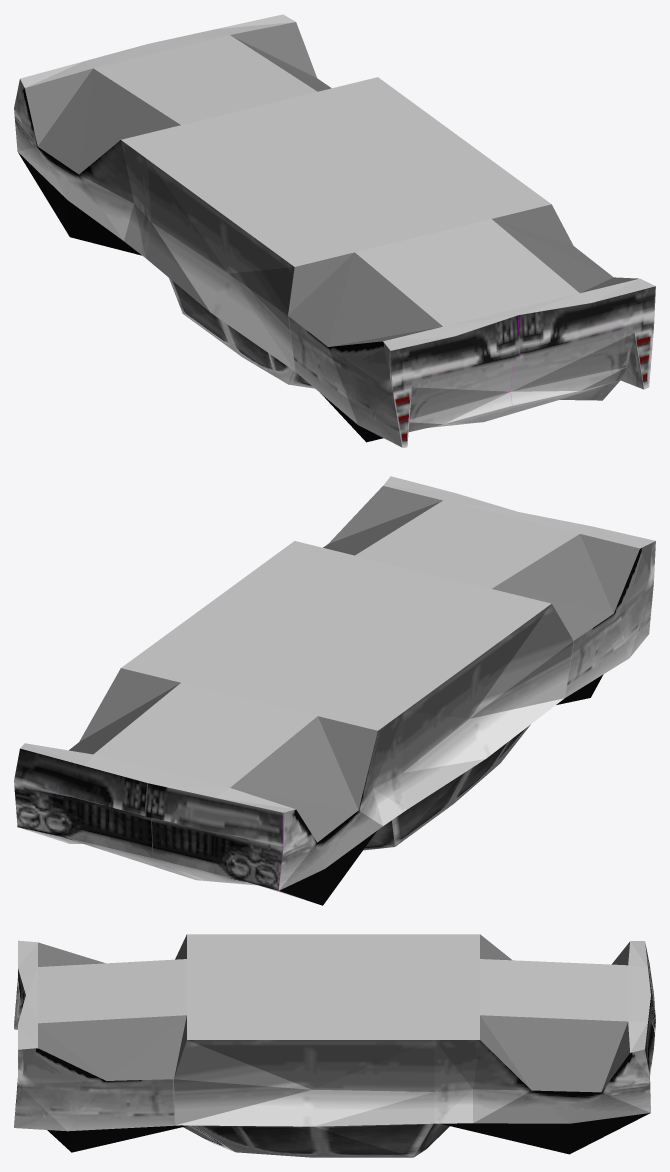
File: HAVANA_model0_damaged.obj
3 renders of one model, top to bottom at view 1: azimuth 30°, elevation 25°; view 2: azimuth 150°, elevation 25°; view 3: azimuth 270°, elevation 25°, orthographic. The views are drawn at different scales.
Visible parts, largest first — view 1: HAVANA_model0_damaged_set21_id5_ft, HAVANA_model0_damaged_flat, HAVANA_model0_damaged_set36_id23, HAVANA_model0_damaged_set36_id17, HAVANA_model0_damaged_set36_id19, HAVANA_model0_damaged_set36_id28, HAVANA_model0_damaged_set36_id24, HAVANA_model0_damaged_set36_id29, HAVANA_model0_damaged_set36_id25; view 2: HAVANA_model0_damaged_set21_id5_ft, HAVANA_model0_damaged_flat, HAVANA_model0_damaged_set36_id23, HAVANA_model0_damaged_set36_id18, HAVANA_model0_damaged_set36_id20, HAVANA_model0_damaged_set36_id28, HAVANA_model0_damaged_set36_id24, HAVANA_model0_damaged_set36_id29, HAVANA_model0_damaged_set36_id26; view 3: HAVANA_model0_damaged_set21_id5_ft, HAVANA_model0_damaged_set36_id23, HAVANA_model0_damaged_flat, HAVANA_model0_damaged_set36_id28, HAVANA_model0_damaged_set36_id24, HAVANA_model0_damaged_set36_id29, HAVANA_model0_damaged_set36_id22, HAVANA_model0_damaged_set36_id18, HAVANA_model0_damaged_set36_id19.
Part boxes in pixels (x1,y1,x2,y2): HAVANA_model0_damaged_set21_id5_ft: [20, 14, 655, 350]; HAVANA_model0_damaged_flat: [25, 22, 638, 346]; HAVANA_model0_damaged_set36_id23: [146, 160, 295, 371]; HAVANA_model0_damaged_set36_id17: [511, 286, 655, 405]; HAVANA_model0_damaged_set36_id19: [390, 315, 520, 447]; HAVANA_model0_damaged_set36_id28: [14, 79, 150, 257]; HAVANA_model0_damaged_set36_id24: [288, 316, 402, 447]; HAVANA_model0_damaged_set36_id29: [169, 278, 293, 384]; HAVANA_model0_damaged_set36_id25: [428, 380, 620, 427]; HAVANA_model0_damaged_set21_id5_ft: [20, 476, 655, 812]; HAVANA_model0_damaged_flat: [69, 486, 639, 842]; HAVANA_model0_damaged_set36_id23: [402, 603, 573, 809]; HAVANA_model0_damaged_set36_id18: [14, 748, 153, 857]; HAVANA_model0_damaged_set36_id20: [145, 783, 283, 890]; HAVANA_model0_damaged_set36_id28: [278, 711, 406, 905]; HAVANA_model0_damaged_set36_id24: [556, 541, 655, 704]; HAVANA_model0_damaged_set36_id29: [392, 724, 530, 846]; HAVANA_model0_damaged_set36_id26: [18, 827, 314, 903]; HAVANA_model0_damaged_set21_id5_ft: [18, 934, 650, 1052]; HAVANA_model0_damaged_set36_id23: [174, 1040, 434, 1126]; HAVANA_model0_damaged_flat: [38, 934, 629, 1092]; HAVANA_model0_damaged_set36_id28: [434, 1040, 650, 1154]; HAVANA_model0_damaged_set36_id24: [14, 1048, 188, 1152]; HAVANA_model0_damaged_set36_id29: [194, 1123, 433, 1157]; HAVANA_model0_damaged_set36_id22: [183, 1123, 449, 1156]; HAVANA_model0_damaged_set36_id18: [645, 996, 655, 1075]; HAVANA_model0_damaged_set36_id19: [14, 969, 25, 1029].
Bounding box in the file's own units: 280 × 149 × 646.
14 materials, 12 textured.
